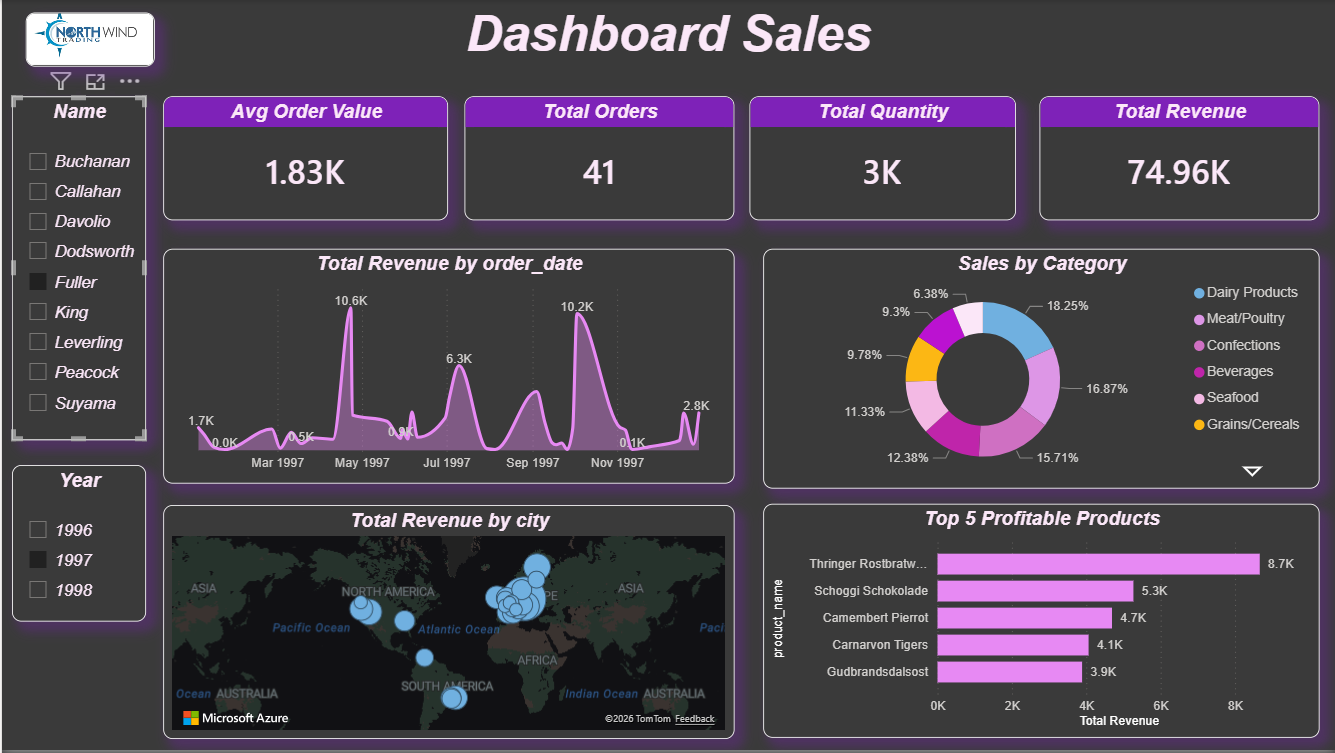

This screenshot's page, from the dashboard's own definition file:
{"tool":"powerbi","page":{"name":"Page 1","canvas":[1280,720],"ordinal":0},"visuals":[{"type":"textbox","box":[0,0,1280.2,80.2],"z":0},{"type":"cardVisual","title":"Avg Order Value","fields":{"Data":["dw fact_sales.Avg Order Value"]},"box":[154.9,92.5,273.8,118.9],"z":1000},{"type":"cardVisual","title":"Total Orders","fields":{"Data":["dw fact_sales.Total Orders"]},"box":[444.3,92.5,259.4,118.9],"z":2000},{"type":"cardVisual","title":"Total Quantity","fields":{"Data":["dw fact_sales.Total Quantity"]},"box":[718,92.5,255.8,118.9],"z":3000},{"type":"cardVisual","title":"Total Revenue","fields":{"Data":["dw fact_sales.Total Revenue"]},"box":[996.6,92.5,269,118.9],"z":4000},{"type":"donutChart","title":"Sales by Category","fields":{"Category":["dw dim_products.category_name"],"Y":["dw fact_sales.Total Revenue"]},"box":[731.3,238.9,534.3,230.5],"z":5000},{"type":"clusteredBarChart","title":"Top 5 Profitable Products","fields":{"Category":["dw dim_products.product_name"],"Y":["dw fact_sales.Total Revenue"]},"box":[731.3,483.9,534.3,224.5],"z":6000},{"type":"areaChart","fields":{"Category":["dw fact_sales.order_date"],"Y":["dw fact_sales.Total Revenue"]},"box":[154.9,238.9,548.7,225.7],"z":7000},{"type":"azureMap","fields":{"Category":["dw dim_customers.city"],"Size":["dw fact_sales.Total Revenue"]},"box":[154.9,485.1,548.7,224.5],"z":8000},{"type":"slicer","title":"Year","fields":{"Values":["dw dim_date.year"]},"box":[9.6,446.7,128.5,150.1],"z":9000},{"type":"slicer","title":"Name","fields":{"Values":["dw dim_employees.last_name"]},"box":[9.6,92.5,128.5,330.2],"z":10000},{"type":"image","box":[22.8,12,123.7,51.6],"z":11000}]}

Visuals, with their boxes in screenshot pixels (x1, y1, x2, y2), scaled from the page's 1280x720 canvas onto the 1335x753 screenshot:
textbox: BBox(0, 0, 1334, 84)
"Avg Order Value" cardVisual: BBox(162, 97, 447, 221)
"Total Orders" cardVisual: BBox(463, 97, 734, 221)
"Total Quantity" cardVisual: BBox(749, 97, 1016, 221)
"Total Revenue" cardVisual: BBox(1039, 97, 1320, 221)
"Sales by Category" donutChart: BBox(763, 250, 1320, 491)
"Top 5 Profitable Products" clusteredBarChart: BBox(763, 506, 1320, 741)
areaChart - dw fact_sales.order_date x dw fact_sales.Total Revenue: BBox(162, 250, 734, 486)
azureMap - dw dim_customers.city x dw fact_sales.Total Revenue: BBox(162, 507, 734, 742)
"Year" slicer: BBox(10, 467, 144, 624)
"Name" slicer: BBox(10, 97, 144, 442)
image: BBox(24, 13, 153, 67)
